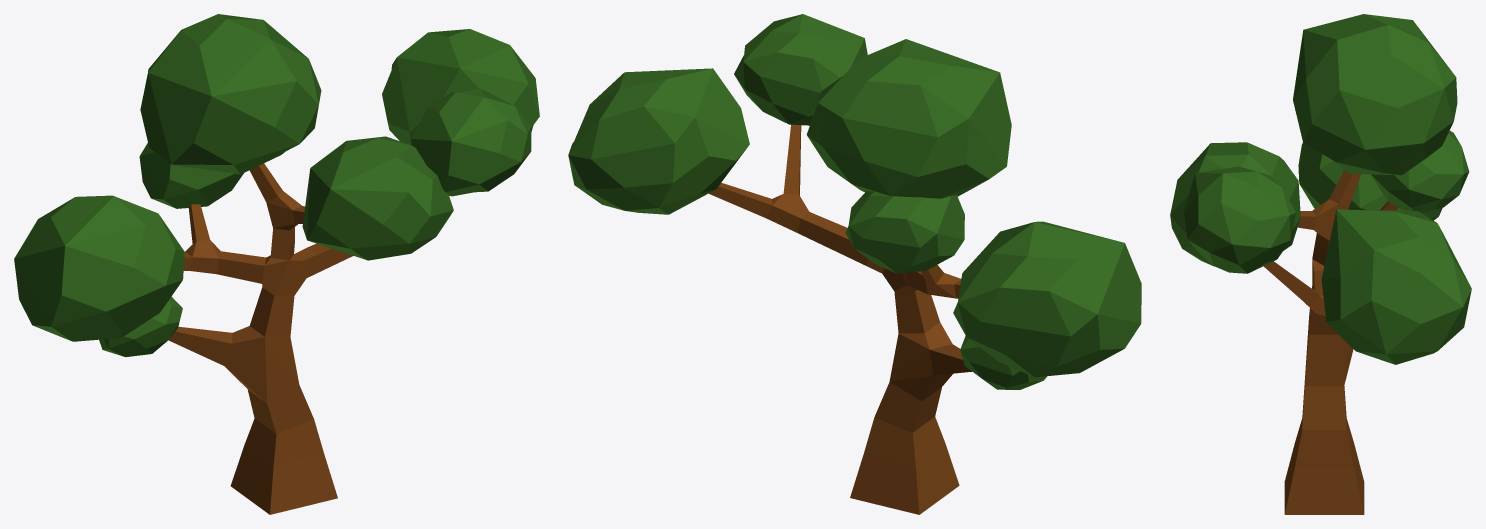
File: Tree_9.fbx
3 views of the same model, side by side, from view 1: azimuth 30°, elevation 25°; view 2: azimuth 150°, elevation 25°; view 3: azimuth 270°, elevation 25° (orthographic). The views are drawn at different scales.
Parts seen in each view (by area): view 1: Tree_9; view 2: Tree_9; view 3: Tree_9.
Boxes of the visible parts, bbox=[...] form: Tree_9: bbox=[14, 14, 539, 514]; Tree_9: bbox=[568, 14, 1141, 514]; Tree_9: bbox=[1170, 14, 1471, 514].
Bounding box in the file's own units: 1888 × 1600 × 950.
